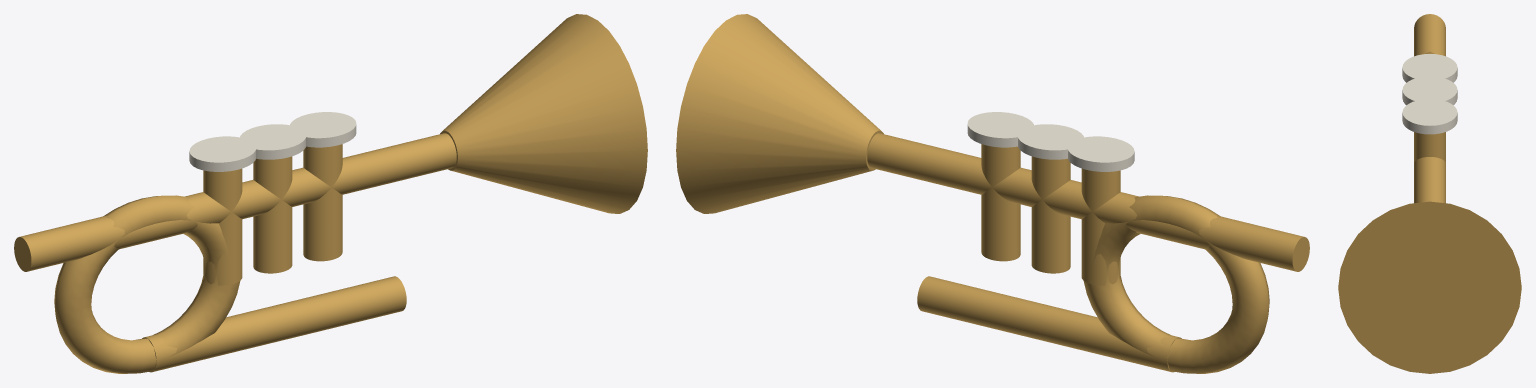
The model's file is wp-trompette.glb.
3 renders of one model, left to right at view 1: azimuth 30°, elevation 25°; view 2: azimuth 150°, elevation 25°; view 3: azimuth 270°, elevation 25°, orthographic. The views are drawn at different scales.
Visible parts, largest first — view 1: wp-trompette; view 2: wp-trompette; view 3: wp-trompette.
Part boxes in pixels (bbox=[...]): wp-trompette: bbox=[14, 14, 647, 373]; wp-trompette: bbox=[676, 14, 1309, 373]; wp-trompette: bbox=[1338, 14, 1521, 373].
Size of the model in its own units: 0.5 by 0.2 by 0.15.
